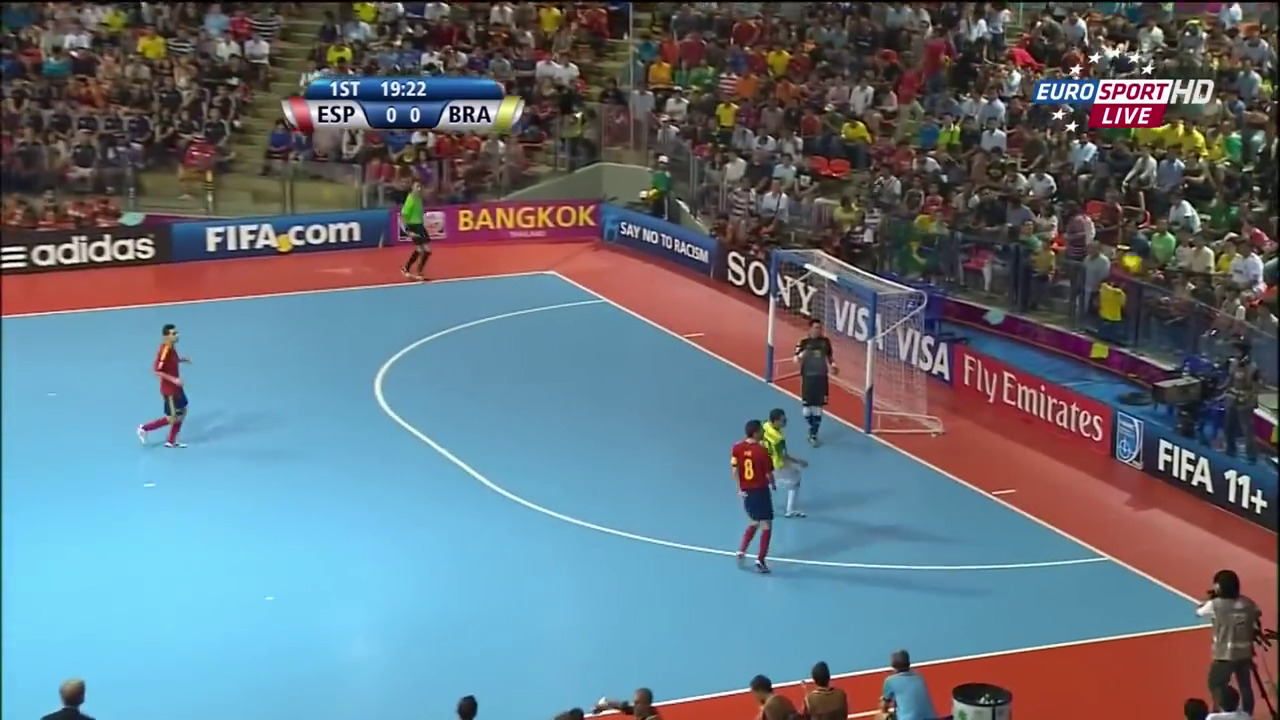person: (722, 424, 782, 572), (138, 324, 189, 452), (793, 318, 840, 452), (764, 407, 807, 518)
